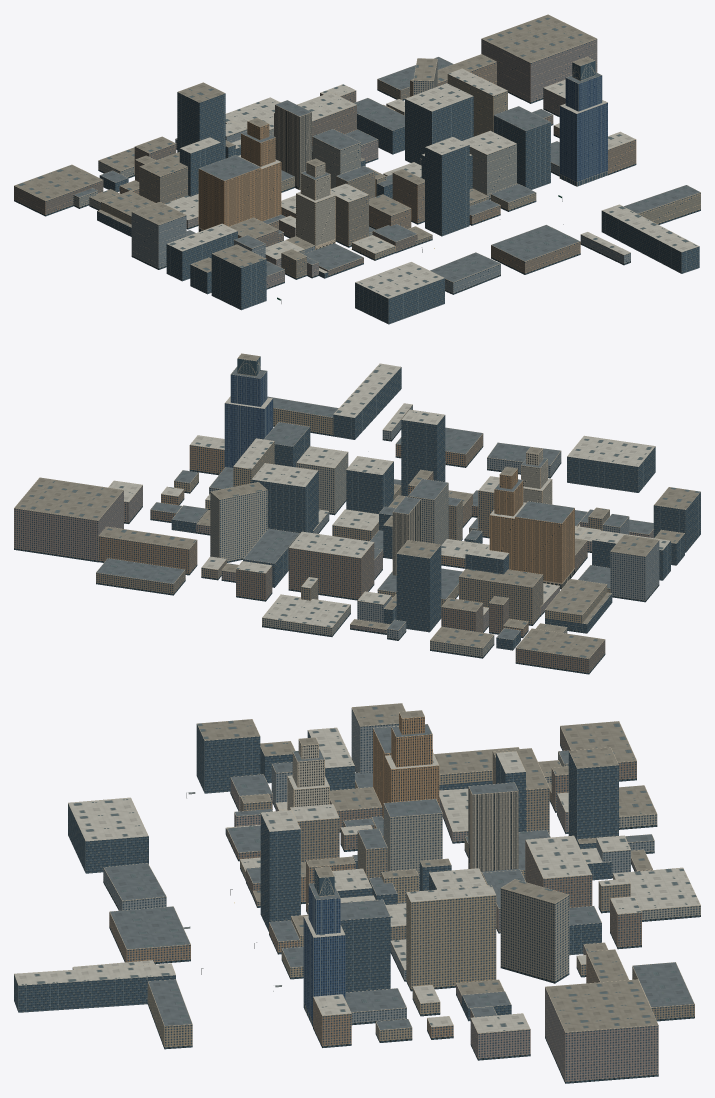
File: cincinnati.glb
3 views of the same model, one above another, from view 1: azimuth 30°, elevation 25°; view 2: azimuth 150°, elevation 25°; view 3: azimuth 270°, elevation 25° (orthographic). The views are drawn at different scales.
Parts seen in each view (by area): view 1: Facade glass, Roof aerial membrane 2, Roof aerial membrane 0, Roof aerial membrane 1, Facade carew, Facade masonry-6, Facade masonry-4, Facade great-american, Facade masonry-0, Limestone trim, Facade masonry-3, Aluminum mullions (+9 smaller); view 2: Facade glass, Roof aerial membrane 0, Roof aerial membrane 2, Roof aerial membrane 1, Facade masonry-2, Facade masonry-3, Facade masonry-0, Facade masonry-6, Facade carew, Facade masonry-4, Facade masonry-5, Limestone trim (+9 smaller); view 3: Facade glass, Roof aerial membrane 0, Roof aerial membrane 1, Roof aerial membrane 2, Facade masonry-1, Facade masonry-3, Facade masonry-6, Limestone trim, Facade masonry-0, Roof coping, Facade masonry-2, Facade carew (+9 smaller).
Boxes of the visible parts, x1,y1,x2,y2 form: Facade glass: (97,92,699,324); Roof aerial membrane 2: (15,14,596,272); Roof aerial membrane 0: (164,68,698,298); Roof aerial membrane 1: (74,57,700,282); Facade carew: (199,121,280,229); Facade masonry-6: (186,39,597,287); Facade masonry-4: (119,62,636,273); Facade great-american: (560,75,607,181); Facade masonry-0: (139,79,432,278); Limestone trim: (15,39,700,291); Facade masonry-3: (73,61,516,254); Aluminum mullions: (97,64,686,324); Facade glass: (171,367,700,650); Roof aerial membrane 0: (108,363,669,627); Roof aerial membrane 2: (15,353,699,658); Roof aerial membrane 1: (96,367,653,639); Facade masonry-2: (150,505,605,672); Facade masonry-3: (210,452,567,656); Facade masonry-0: (96,490,609,624); Facade masonry-6: (14,485,653,633); Facade carew: (490,469,574,582); Facade masonry-4: (98,434,528,636); Facade masonry-5: (209,405,659,639); Limestone trim: (14,360,658,672); Facade glass: (14,724,618,1021); Roof aerial membrane 0: (14,727,700,1033); Roof aerial membrane 1: (104,724,694,1029); Roof aerial membrane 2: (197,703,657,1032); Facade masonry-1: (147,770,525,1046); Facade masonry-3: (307,752,700,981); Facade masonry-6: (230,779,658,1081); Limestone trim: (105,711,700,1081); Facade masonry-0: (240,752,694,1019); Roof coping: (14,703,700,1033); Facade masonry-2: (226,727,641,1019); Facade carew: (373,713,438,817).
Size of the model in its own units: 103 by 20.27 by 87.28.
Materials: 33 (15 with a texture image).
